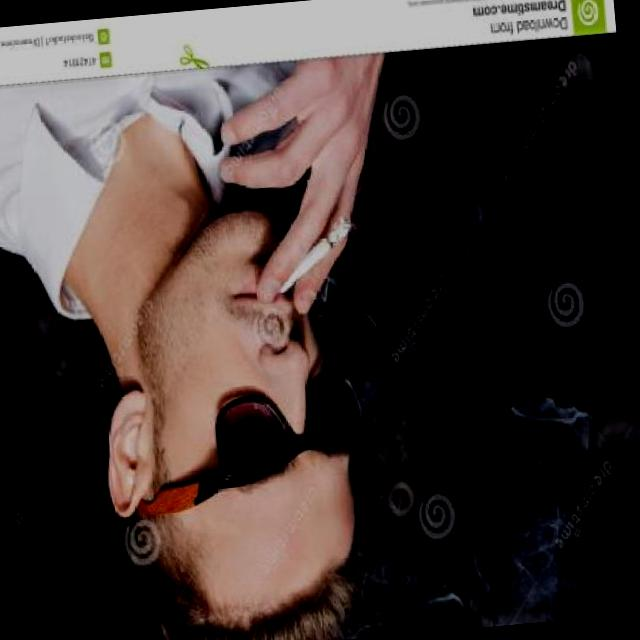cigarette: (269, 213, 358, 296)
